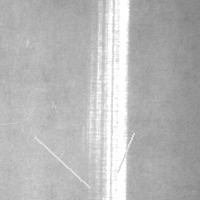scratches: (97, 1, 130, 199), (30, 132, 95, 193), (113, 128, 139, 177), (0, 117, 23, 139)
